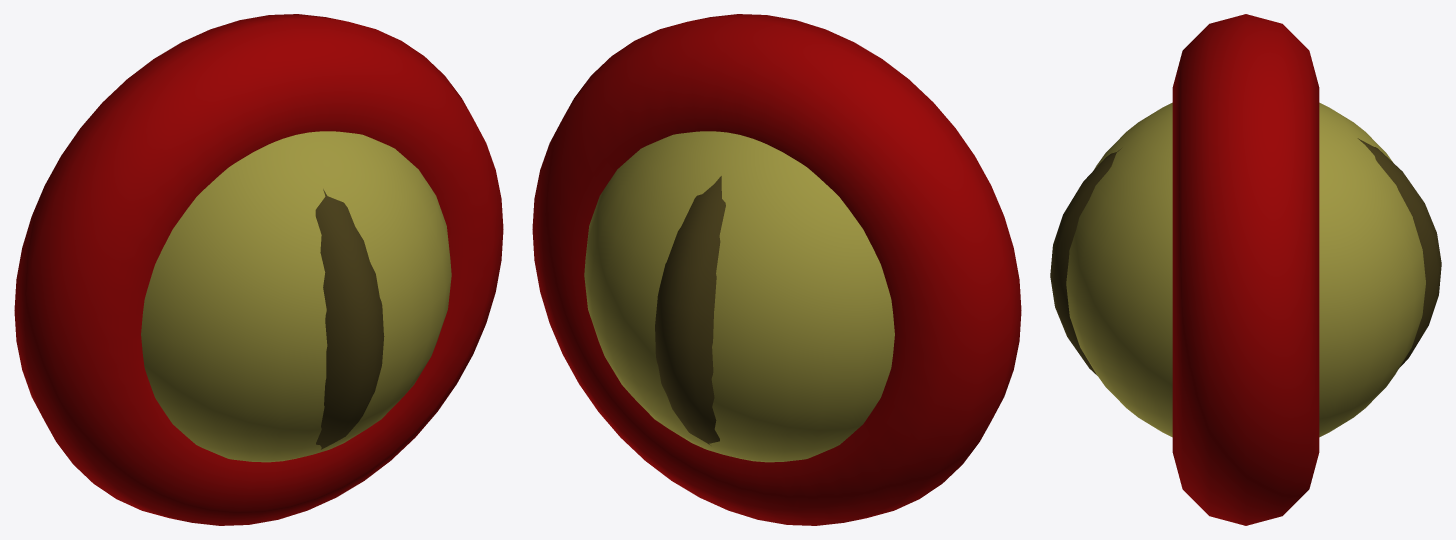
Rendered from eye.glb.
The picture shows the model from 3 angles, left to right: view 1: azimuth 30°, elevation 25°; view 2: azimuth 150°, elevation 25°; view 3: azimuth 270°, elevation 25°; orthographic projection. The views are drawn at different scales.
Parts seen in each view (by area): view 1: Torus, Sphere, pupil; view 2: Torus, Sphere, pupil; view 3: Torus, Sphere, pupil.
Part boxes in pixels (box(x1,y1,x2,y2)): Torus: box(14, 14, 503, 525); Sphere: box(141, 131, 451, 462); pupil: box(315, 189, 384, 449); Torus: box(532, 14, 1021, 525); Sphere: box(584, 131, 894, 462); pupil: box(655, 176, 725, 445); Torus: box(1172, 14, 1319, 525); Sphere: box(1066, 102, 1425, 437); pupil: box(1050, 138, 1441, 375).
Size of the model in its own units: 2.8 by 2.8 by 2.14.
